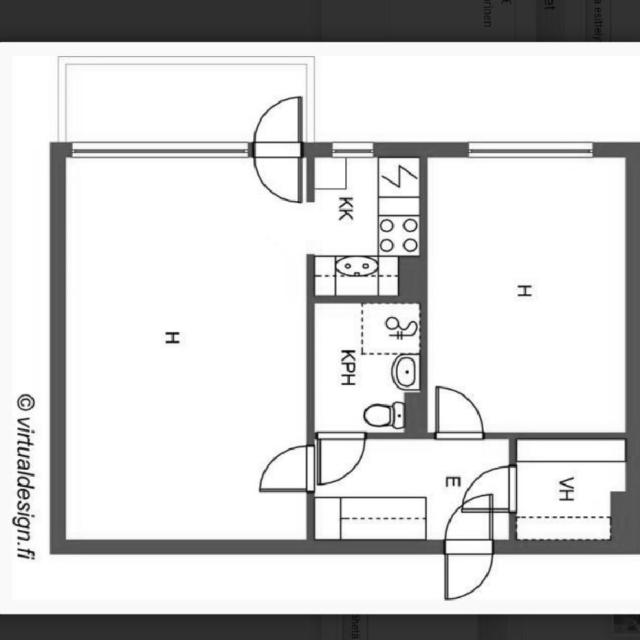door: (248, 93, 308, 204), (438, 496, 498, 602), (428, 380, 492, 446), (250, 437, 320, 496), (311, 427, 372, 486), (466, 464, 518, 508)
window: (310, 296, 426, 436), (73, 140, 252, 168), (462, 139, 599, 165), (323, 136, 384, 159)
zone: (60, 149, 311, 541), (425, 147, 636, 439), (308, 435, 512, 548), (306, 152, 420, 297), (310, 297, 425, 438), (511, 436, 628, 550)
